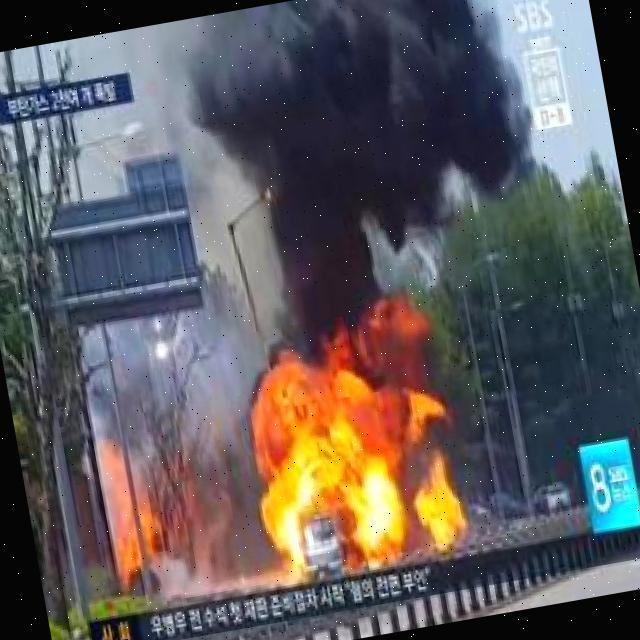Fire: (236, 332, 466, 589), (107, 506, 169, 587)
